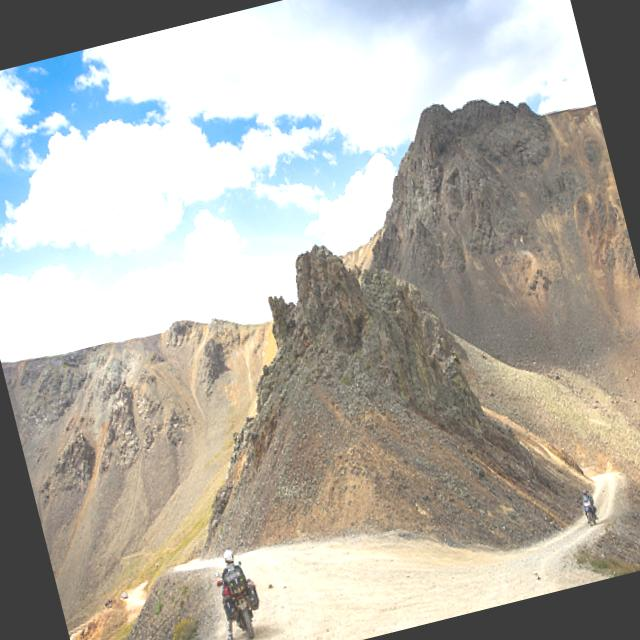Vehicle: (212, 556, 268, 640), (576, 495, 598, 529)
